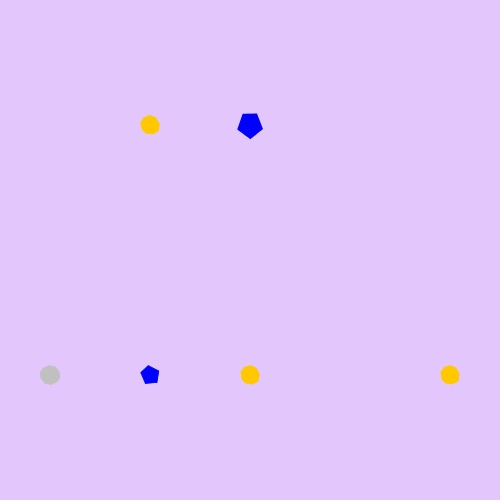decagon: (35, 361, 65, 389)
nonagon: (136, 111, 165, 139), (236, 361, 265, 389), (436, 361, 465, 389)
pentagon: (233, 108, 267, 142), (136, 361, 164, 389)
